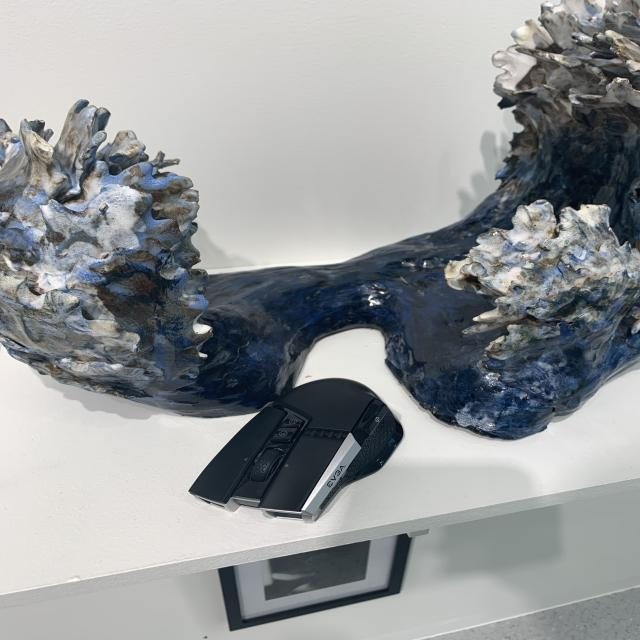Mouse: (185, 375, 411, 526)
